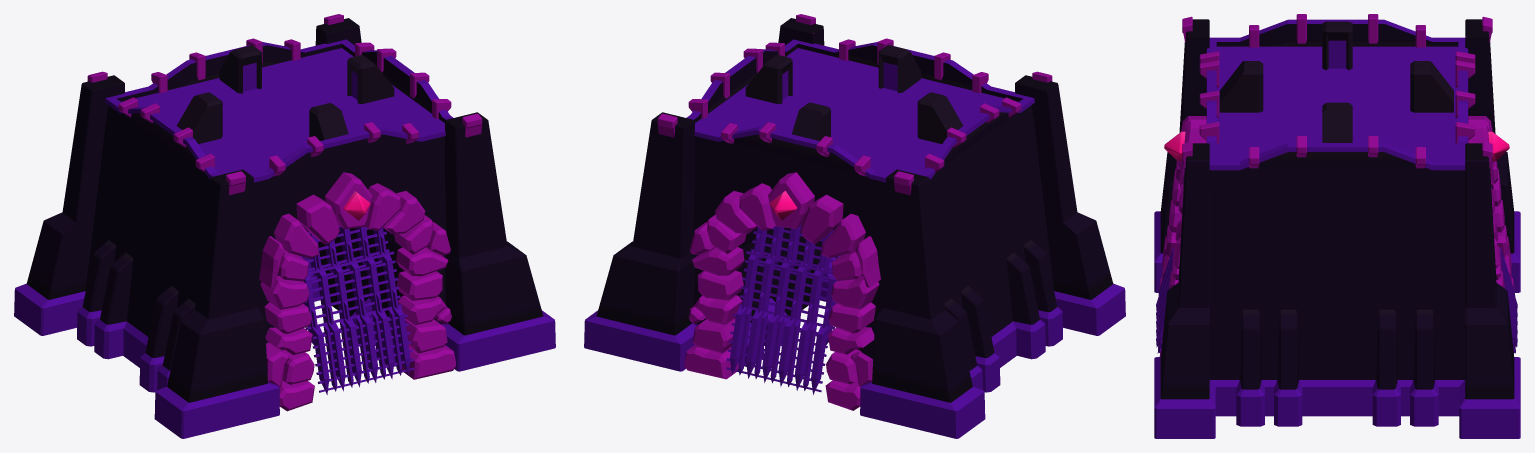
The model's file is Gate.fbx.
3 views of the same model, side by side, from view 1: azimuth 30°, elevation 25°; view 2: azimuth 150°, elevation 25°; view 3: azimuth 270°, elevation 25° (orthographic). The views are drawn at different scales.
Parts seen in each view (by area): view 1: citaadel_gate; view 2: citaadel_gate; view 3: citaadel_gate.
Boxes of the visible parts, left/top/right/bottom form: citaadel_gate: left=14, top=14, right=555, bottom=438; citaadel_gate: left=584, top=14, right=1125, bottom=438; citaadel_gate: left=1154, top=14, right=1520, bottom=438.
Size of the model in its own units: 1091 by 707 by 853.
